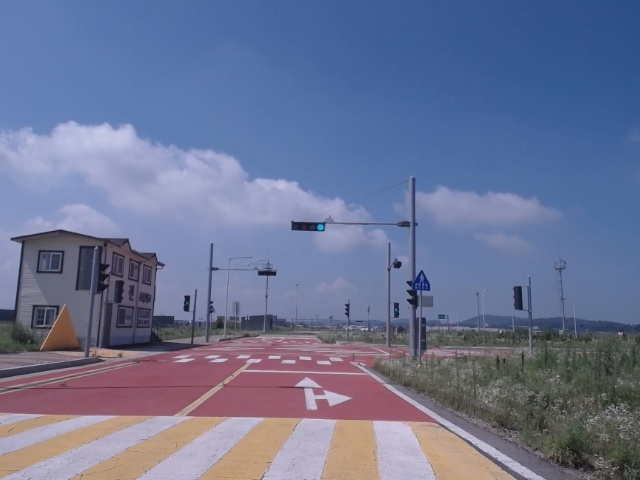straight_green_4: (292, 223, 325, 232)
